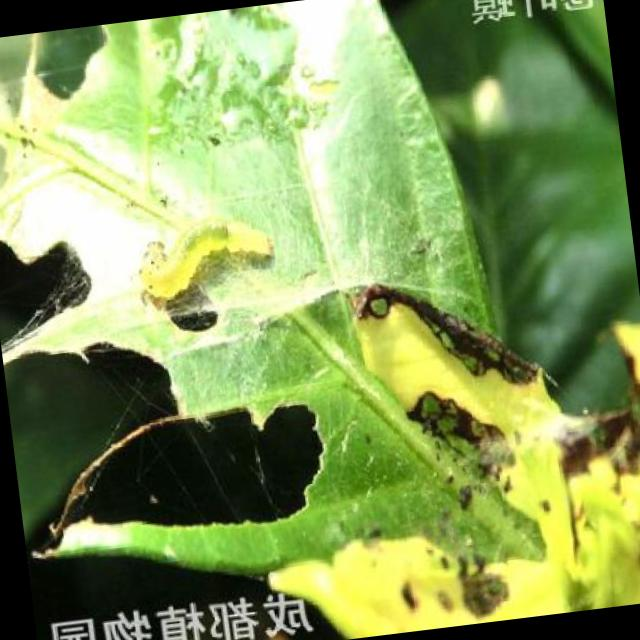leaf-folder: (118, 182, 265, 334)
